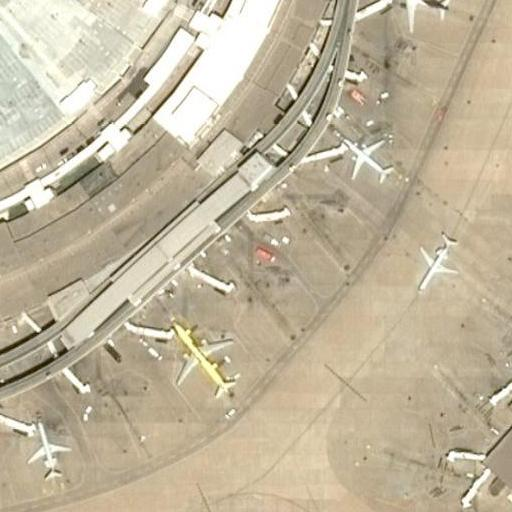Aircraft: (168, 321, 240, 404), (333, 127, 397, 184), (25, 420, 70, 483), (414, 230, 456, 296), (386, 0, 452, 30)
